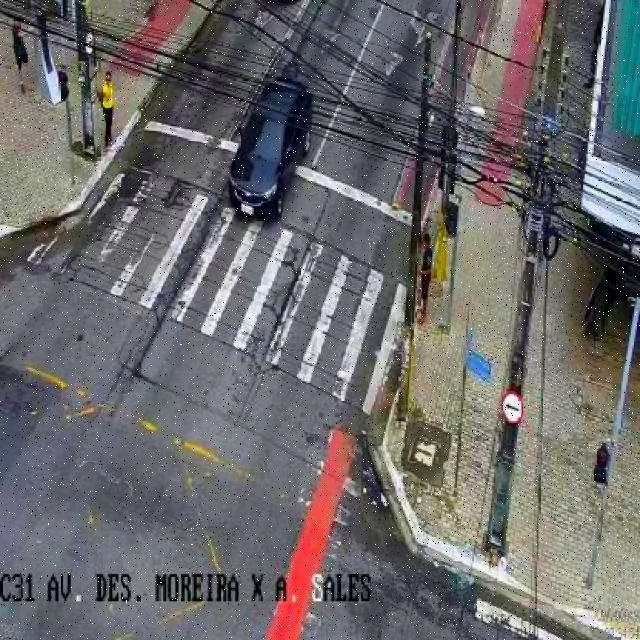Car: (227, 77, 314, 221)
